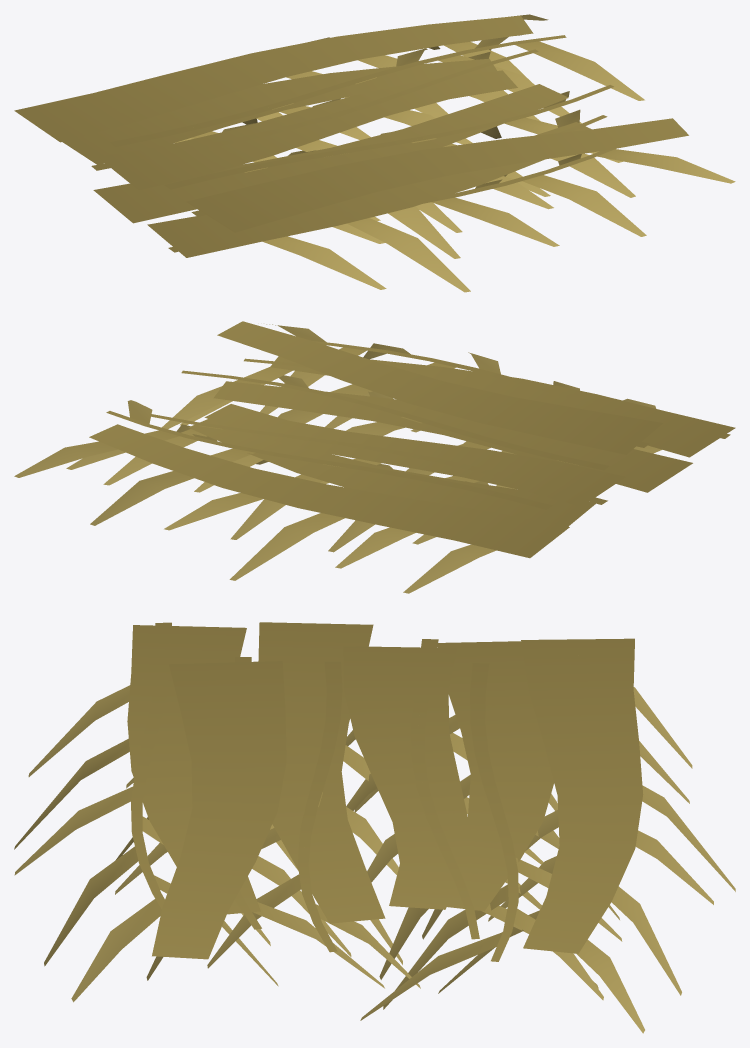
The model's file is kelp_canopy.glb.
3 renders of one model, top to bottom at view 1: azimuth 30°, elevation 25°; view 2: azimuth 150°, elevation 25°; view 3: azimuth 270°, elevation 25°, orthographic. The views are drawn at different scales.
Visible parts, largest first — view 1: kelp_canopy_lo, kelp_canopy; view 2: kelp_canopy_lo, kelp_canopy; view 3: kelp_canopy_lo, kelp_canopy.
Boxes of the visible parts, bbox=[...] form: kelp_canopy_lo: bbox=[14, 15, 688, 257]; kelp_canopy: bbox=[34, 14, 735, 292]; kelp_canopy_lo: bbox=[89, 321, 735, 558]; kelp_canopy: bbox=[14, 324, 730, 593]; kelp_canopy_lo: bbox=[127, 622, 643, 959]; kelp_canopy: bbox=[14, 622, 735, 1033].
Size of the model in its own units: 4.06 by 0.4275 by 3.48.
